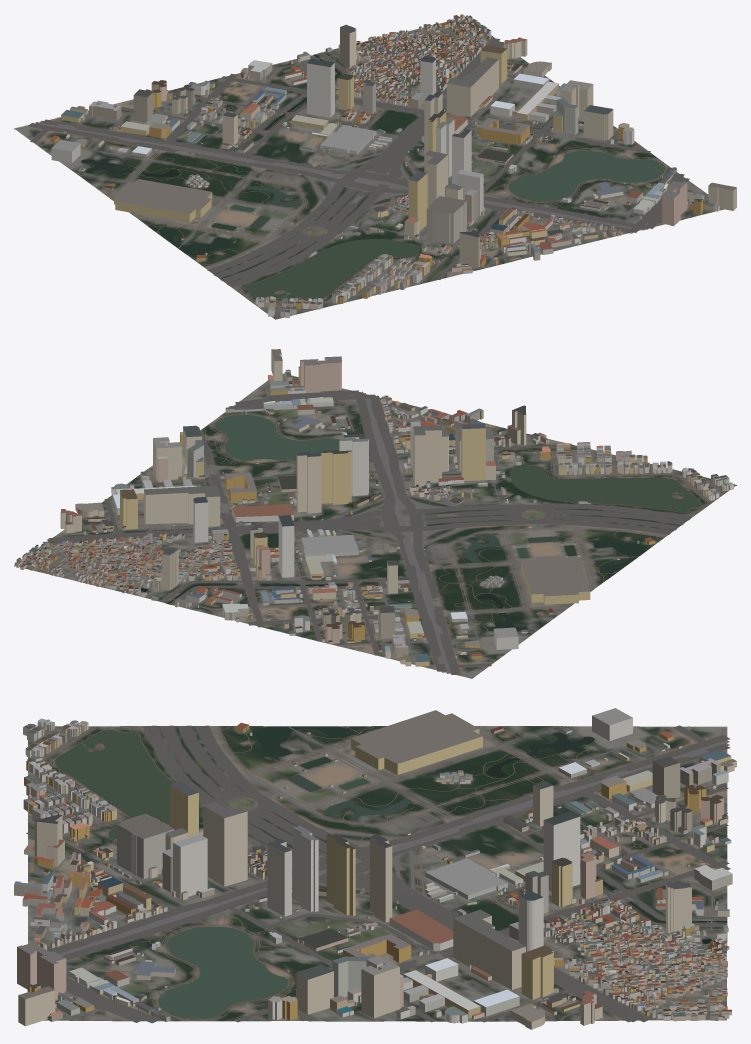
3 views of the same model, one above another, from view 1: azimuth 30°, elevation 25°; view 2: azimuth 150°, elevation 25°; view 3: azimuth 270°, elevation 25° (orthographic). The views are drawn at different scales.
Parts seen in each view (by area): view 1: buildings, ground, roads, water; view 2: buildings, ground, roads, water; view 3: buildings, ground, roads, water.
Part boxes in pixels (x1=…): buildings: x1=50, y1=14, x2=736, y2=317; ground: x1=14, y1=19, x2=724, y2=319; roads: x1=17, y1=28, x2=723, y2=319; water: x1=81, y1=54, x2=665, y2=299; buildings: x1=14, y1=349, x2=733, y2=666; ground: x1=14, y1=373, x2=736, y2=678; roads: x1=26, y1=373, x2=735, y2=678; water: x1=141, y1=414, x2=701, y2=630; buildings: x1=14, y1=708, x2=736, y2=1029; ground: x1=28, y1=726, x2=727, y2=1021; roads: x1=26, y1=725, x2=730, y2=1023; water: x1=51, y1=726, x2=727, y2=1019.
Bounding box in the file's own units: 1463 × 169 × 1449.
